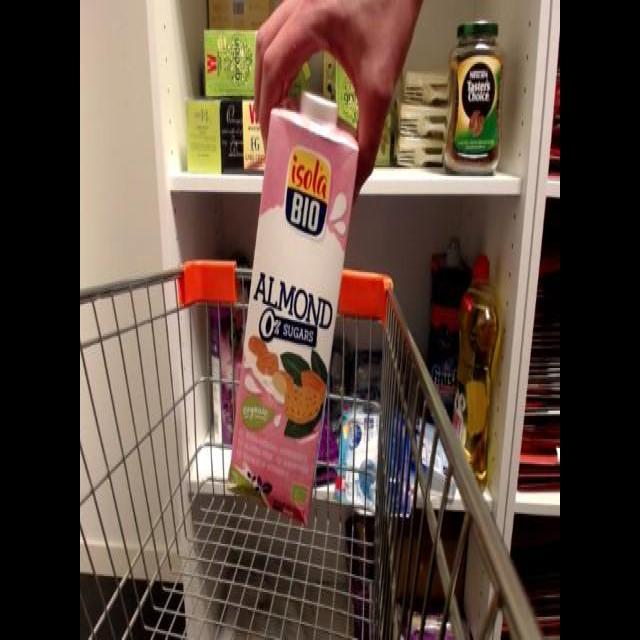Almond Milk: (224, 79, 366, 534)
